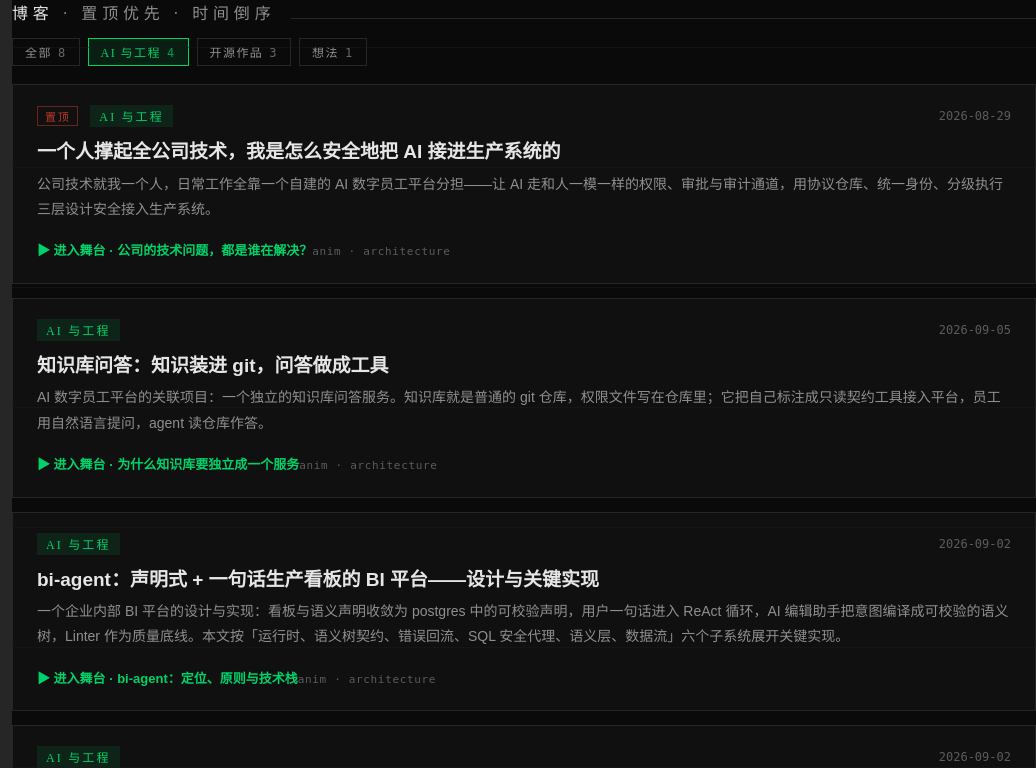
Test: PostList 领域筛选 + 置顶 › 点击领域 chip 后只显示该领域卡片
What coordinates should you click on to do the following:
click the button "开源作品3"
I would click on:
 (244, 52)
Its box is [196,38,291,66].
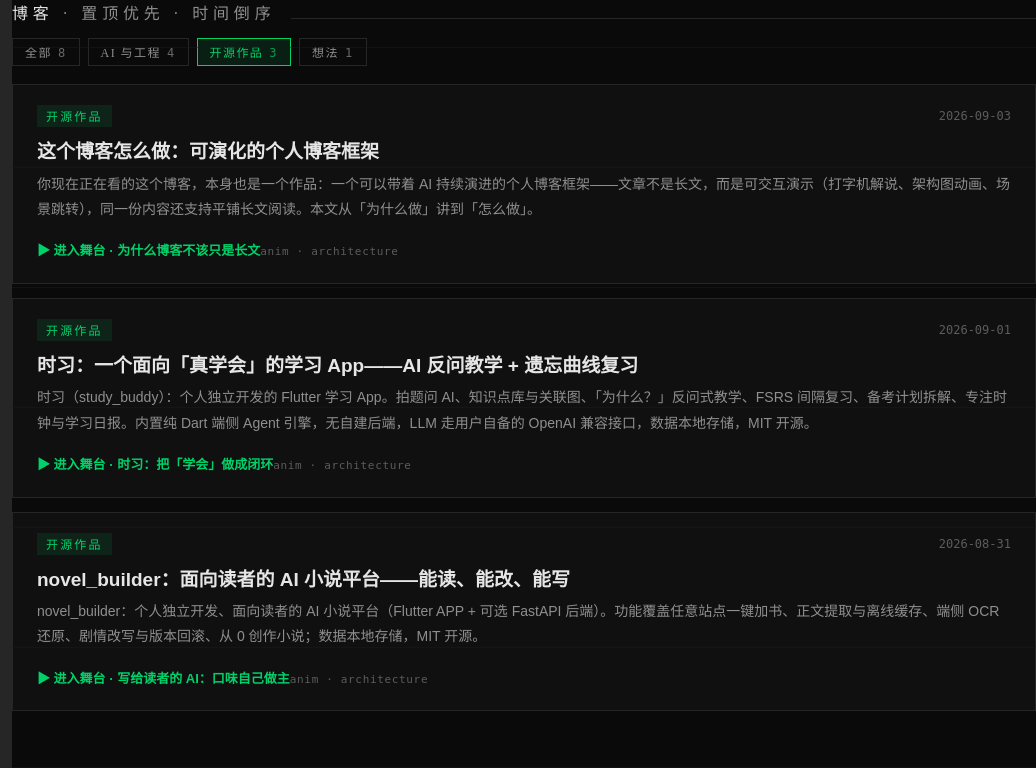
Expected: the text with class "tag" in the row of "2026-09-03" reads "开源作品", [46,110,103,124]
Expected: the text with class "tag" in the row of "2026-09-01" reads "开源作品", [46,324,103,338]
Expected: the text with class "tag" in the row of "2026-08-31" reads "开源作品", [46,538,103,552]
